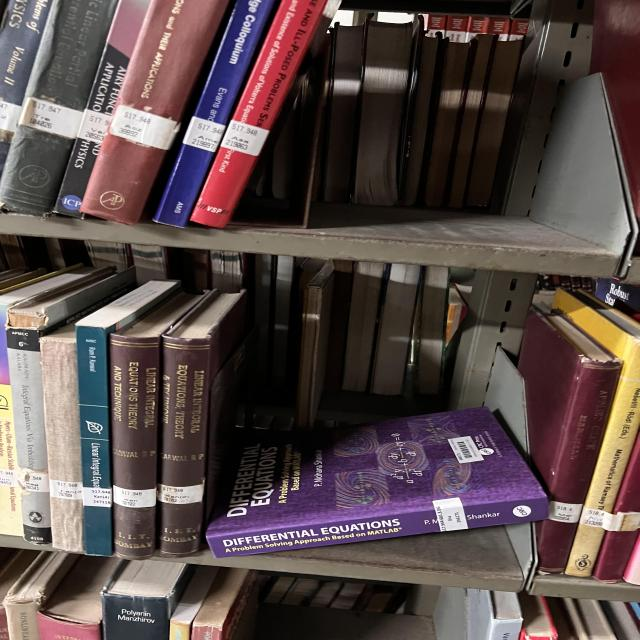Book: (207, 408, 548, 558), (80, 0, 228, 225), (75, 280, 180, 555), (153, 0, 275, 228), (518, 310, 622, 572), (0, 0, 117, 215), (553, 290, 640, 578), (110, 292, 202, 559), (158, 290, 245, 556), (55, 0, 148, 218), (40, 324, 83, 552), (7, 328, 52, 544), (0, 0, 52, 172), (102, 560, 193, 640), (592, 432, 640, 582), (38, 555, 118, 640), (3, 551, 78, 640), (192, 568, 258, 640), (0, 330, 23, 535), (170, 565, 218, 640), (467, 589, 523, 640), (518, 591, 558, 640), (575, 599, 617, 640), (602, 601, 640, 640), (277, 78, 278, 79)
Label: (110, 105, 180, 150), (18, 98, 83, 139), (220, 120, 270, 156), (183, 116, 225, 152), (77, 109, 112, 144), (432, 498, 468, 531), (113, 485, 157, 508), (158, 484, 203, 504), (603, 511, 640, 531), (548, 501, 583, 522), (48, 479, 82, 500), (0, 101, 22, 132), (580, 508, 610, 528), (83, 488, 112, 508), (22, 472, 50, 492), (0, 469, 18, 488)
